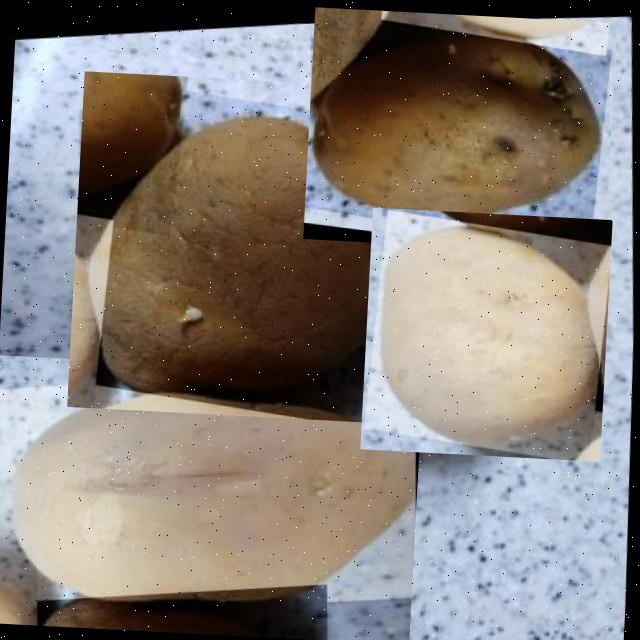Potato: (66, 71, 413, 424), (0, 355, 422, 640), (302, 8, 616, 254), (359, 208, 612, 462)
